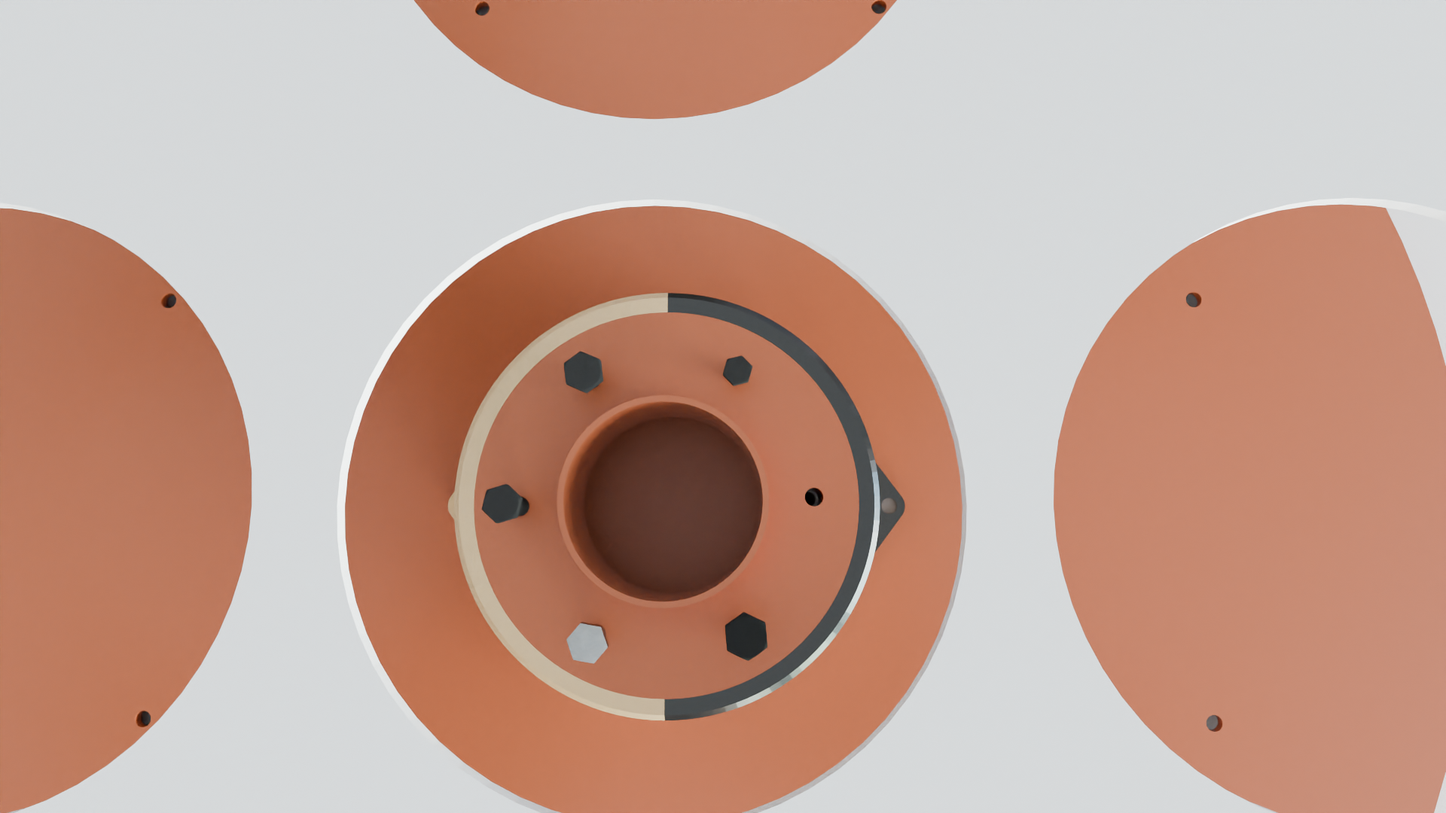bolt: (725, 614, 767, 661), (566, 623, 608, 664), (564, 351, 602, 392), (481, 484, 520, 523), (723, 355, 752, 385)
